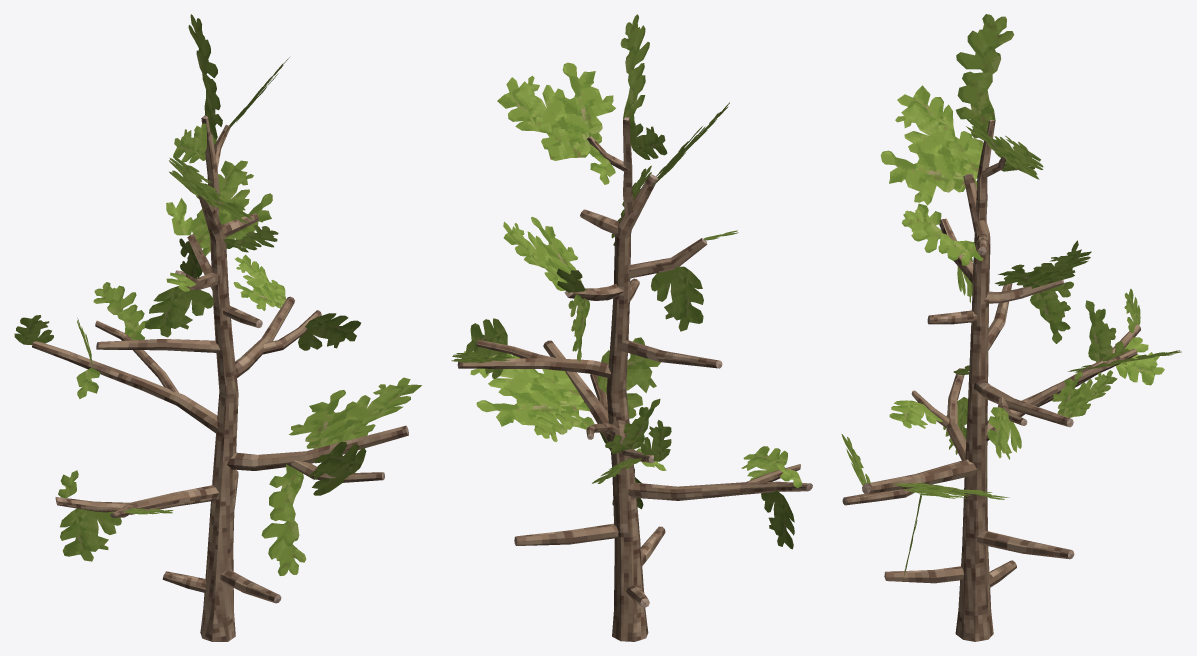
The model's file is Tree_ElmB.fbx.
3 views of the same model, side by side, from view 1: azimuth 30°, elevation 25°; view 2: azimuth 150°, elevation 25°; view 3: azimuth 270°, elevation 25° (orthographic). The views are drawn at different scales.
Visible parts, largest first — view 1: TrunkMain, TreeLeaves_33, Elm_Branch_06, Elm_Branch_30, TreeLeaves_32, TreeLeaves_04, TreeLeaves_08, Elm_Branch_22, TreeLeaves_17, Elm_Branch_21, TreeLeaves_31, TreeLeaves_11 (+11 smaller); view 2: TrunkMain, TreeLeaves_23, TreeLeaves_33, Elm_Branch_22, TreeLeaves_04, Elm_Branch_21, TreeLeaves_17, TreeLeaves_22, TreeLeaves_31, Elm_Branch_26, Elm_Branch_30, Elm_Branch_23 (+13 smaller); view 3: TrunkMain, TreeLeaves_20, TreeLeaves_22, Elm_Branch_30, TreeLeaves_04, TreeLeaves_18, TreeLeaves_11, Elm_Branch_21, TreeLeaves_23, Elm_Branch_06, TreeLeaves_19, TreeLeaves_05 (+11 smaller).
Part boxes in pixels (<box>): TrunkMain: <box>198,195,238,641</box>; TreeLeaves_33: <box>289,377,421,449</box>; Elm_Branch_06: <box>32,320,217,433</box>; Elm_Branch_30: <box>227,425,408,482</box>; TreeLeaves_32: <box>261,464,306,575</box>; TreeLeaves_04: <box>192,160,272,256</box>; TreeLeaves_08: <box>60,508,121,561</box>; Elm_Branch_22: <box>55,485,218,517</box>; TreeLeaves_17: <box>145,286,213,337</box>; Elm_Branch_21: <box>235,296,321,377</box>; TreeLeaves_31: <box>308,441,366,495</box>; TreeLeaves_11: <box>233,254,286,310</box>; TrunkMain: <box>606,174,657,641</box>; TreeLeaves_23: <box>497,62,615,160</box>; TreeLeaves_33: <box>463,351,590,435</box>; Elm_Branch_22: <box>628,464,812,500</box>; TreeLeaves_04: <box>503,216,581,290</box>; Elm_Branch_21: <box>457,339,611,378</box>; TreeLeaves_17: <box>651,266,703,331</box>; TreeLeaves_22: <box>620,14,649,121</box>; TreeLeaves_31: <box>597,337,660,418</box>; Elm_Branch_26: <box>514,523,618,545</box>; Elm_Branch_30: <box>543,340,610,450</box>; Elm_Branch_23: <box>619,339,722,368</box>; TrunkMain: <box>955,173,993,641</box>; TreeLeaves_20: <box>880,85,983,205</box>; TreeLeaves_22: <box>956,14,1014,138</box>; Elm_Branch_30: <box>842,459,977,505</box>; TreeLeaves_04: <box>995,251,1091,288</box>; TreeLeaves_18: <box>902,209,983,265</box>; TreeLeaves_11: <box>1051,370,1117,417</box>; Elm_Branch_21: <box>973,380,1073,427</box>; TreeLeaves_23: <box>963,116,1043,179</box>; Elm_Branch_06: <box>985,324,1140,440</box>; TreeLeaves_19: <box>1085,300,1129,365</box>; TreeLeaves_05: <box>1030,281,1073,343</box>.
Bounding box in the file's own units: 1085 × 1834 × 924.
2 materials, 2 textured.
